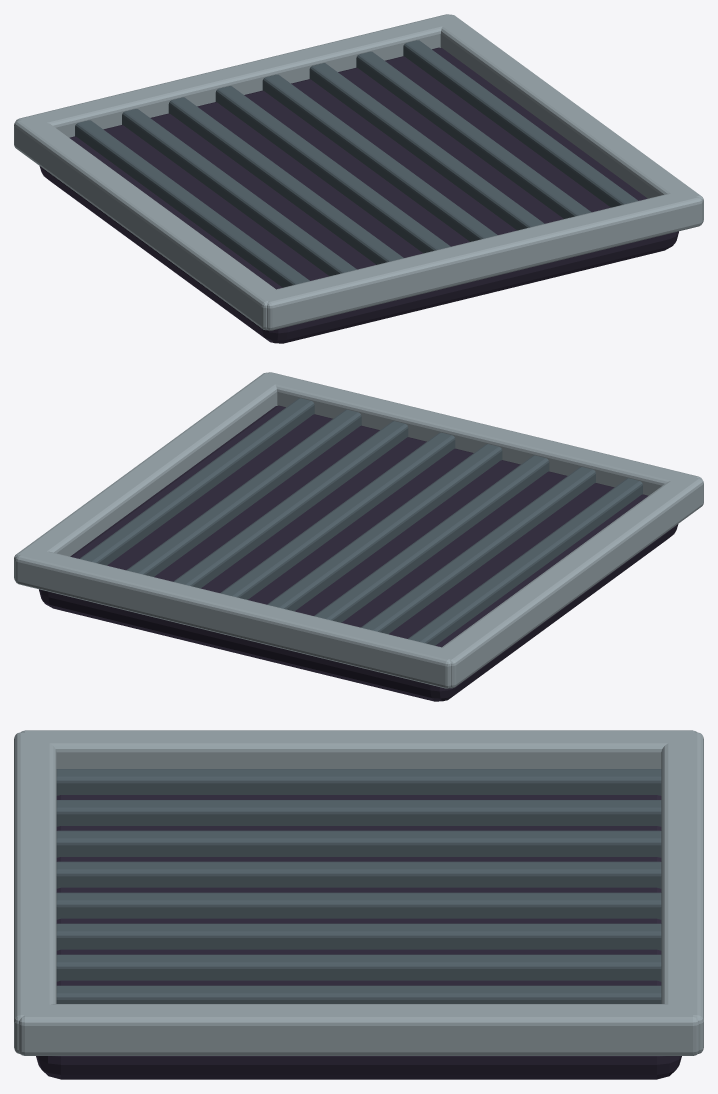
The model's file is drain_grate.glb.
3 renders of one model, top to bottom at view 1: azimuth 30°, elevation 25°; view 2: azimuth 150°, elevation 25°; view 3: azimuth 270°, elevation 25°, orthographic. The views are drawn at different scales.
Visible parts, largest first — view 1: Recess, Frame.003, Frame, Frame.002, Frame.001, Grate_bar.002, Grate_bar.003, Grate_bar.004, Grate_bar.005, Grate_bar.006, Grate_bar.007, Grate_bar (+1 smaller); view 2: Recess, Frame.002, Frame, Frame.003, Frame.001, Grate_bar.002, Grate_bar.003, Grate_bar.004, Grate_bar.005, Grate_bar.006, Grate_bar.007, Grate_bar (+1 smaller); view 3: Recess, Frame.001, Frame, Grate_bar.002, Grate_bar.003, Grate_bar.004, Grate_bar.005, Grate_bar.006, Grate_bar, Grate_bar.001, Frame.002, Frame.003 (+1 smaller).
Part boxes in pixels (bbox=[...]): Recess: bbox=[39, 47, 678, 343]; Frame.003: bbox=[260, 192, 702, 330]; Frame: bbox=[14, 116, 283, 330]; Frame.002: bbox=[15, 14, 456, 137]; Frame.001: bbox=[434, 14, 703, 222]; Grate_bar.002: bbox=[168, 97, 403, 264]; Grate_bar.003: bbox=[215, 86, 450, 253]; Grate_bar.004: bbox=[262, 74, 497, 241]; Grate_bar.005: bbox=[309, 63, 544, 230]; Grate_bar.006: bbox=[356, 51, 591, 218]; Grate_bar.007: bbox=[403, 40, 638, 207]; Grate_bar: bbox=[75, 120, 309, 287]; Recess: bbox=[39, 405, 678, 701]; Frame.002: bbox=[15, 550, 457, 688]; Frame: bbox=[434, 474, 703, 688]; Frame.003: bbox=[261, 372, 702, 495]; Frame.001: bbox=[14, 372, 283, 580]; Grate_bar.002: bbox=[314, 455, 549, 622]; Grate_bar.003: bbox=[267, 444, 502, 611]; Grate_bar.004: bbox=[220, 432, 455, 599]; Grate_bar.005: bbox=[173, 421, 408, 588]; Grate_bar.006: bbox=[126, 409, 361, 576]; Grate_bar.007: bbox=[79, 398, 314, 565]; Grate_bar: bbox=[408, 478, 642, 645]; Recess: bbox=[36, 795, 681, 1079]; Frame.001: bbox=[18, 1004, 699, 1055]; Frame: bbox=[21, 730, 696, 768]; Grate_bar.002: bbox=[56, 830, 661, 857]; Grate_bar.003: bbox=[56, 861, 661, 888]; Grate_bar.004: bbox=[56, 892, 661, 919]; Grate_bar.005: bbox=[56, 923, 661, 950]; Grate_bar.006: bbox=[56, 954, 661, 981]; Grate_bar: bbox=[56, 769, 661, 795]; Grate_bar.001: bbox=[56, 800, 661, 826]; Frame.002: bbox=[661, 732, 703, 1054]; Frame.003: bbox=[14, 732, 56, 1054].
Bounding box in the file's own units: 0.405 × 0.05 × 0.405.
